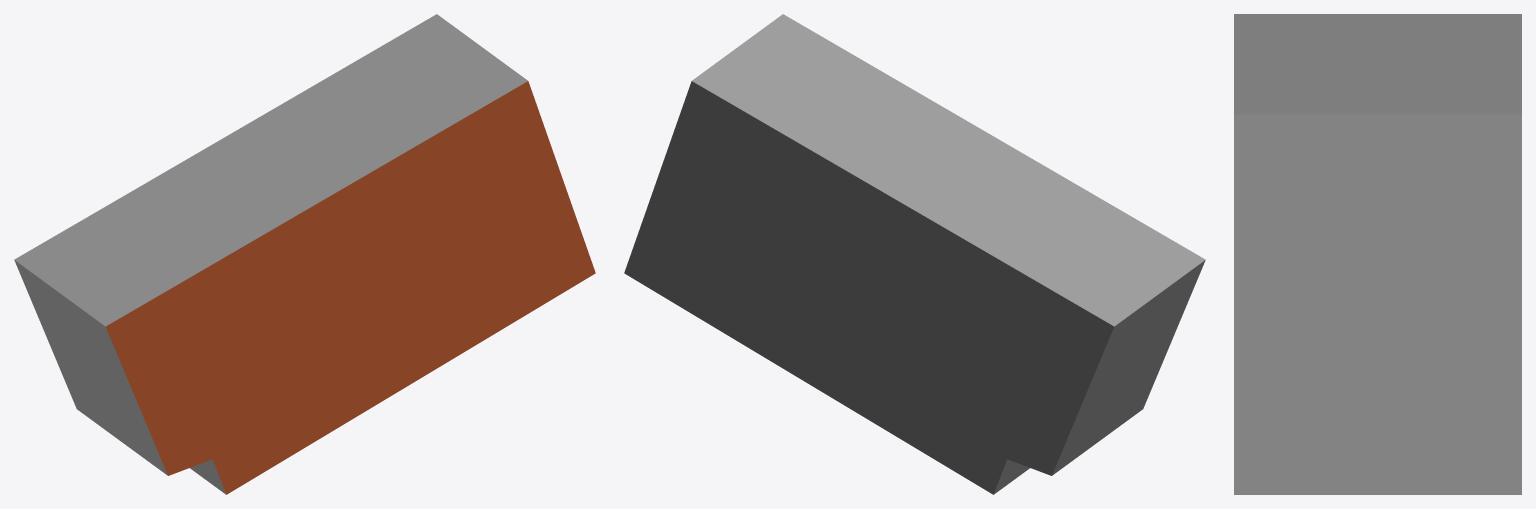
File: construction_5876_assumed_A_Casa_h6m.obj
3 views of the same model, side by side, from view 1: azimuth 30°, elevation 25°; view 2: azimuth 150°, elevation 25°; view 3: azimuth 270°, elevation 25° (orthographic). The views are drawn at different scales.
Visible parts, largest first — view 1: construction_5876_assumed_A_Casa; view 2: construction_5876_assumed_A_Casa; view 3: construction_5876_assumed_A_Casa.
Part boxes in pixels (x1,y1,x2,y2): construction_5876_assumed_A_Casa: (14,14,595,494); construction_5876_assumed_A_Casa: (624,14,1205,494); construction_5876_assumed_A_Casa: (1234,14,1521,494).
Size of the model in its own units: 18.57 by 12.32 by 6.
